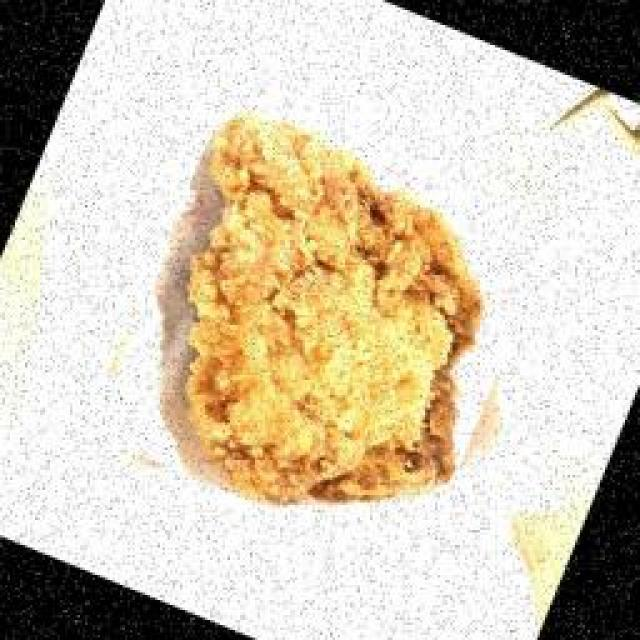fried_chicken: (88, 98, 558, 568)
